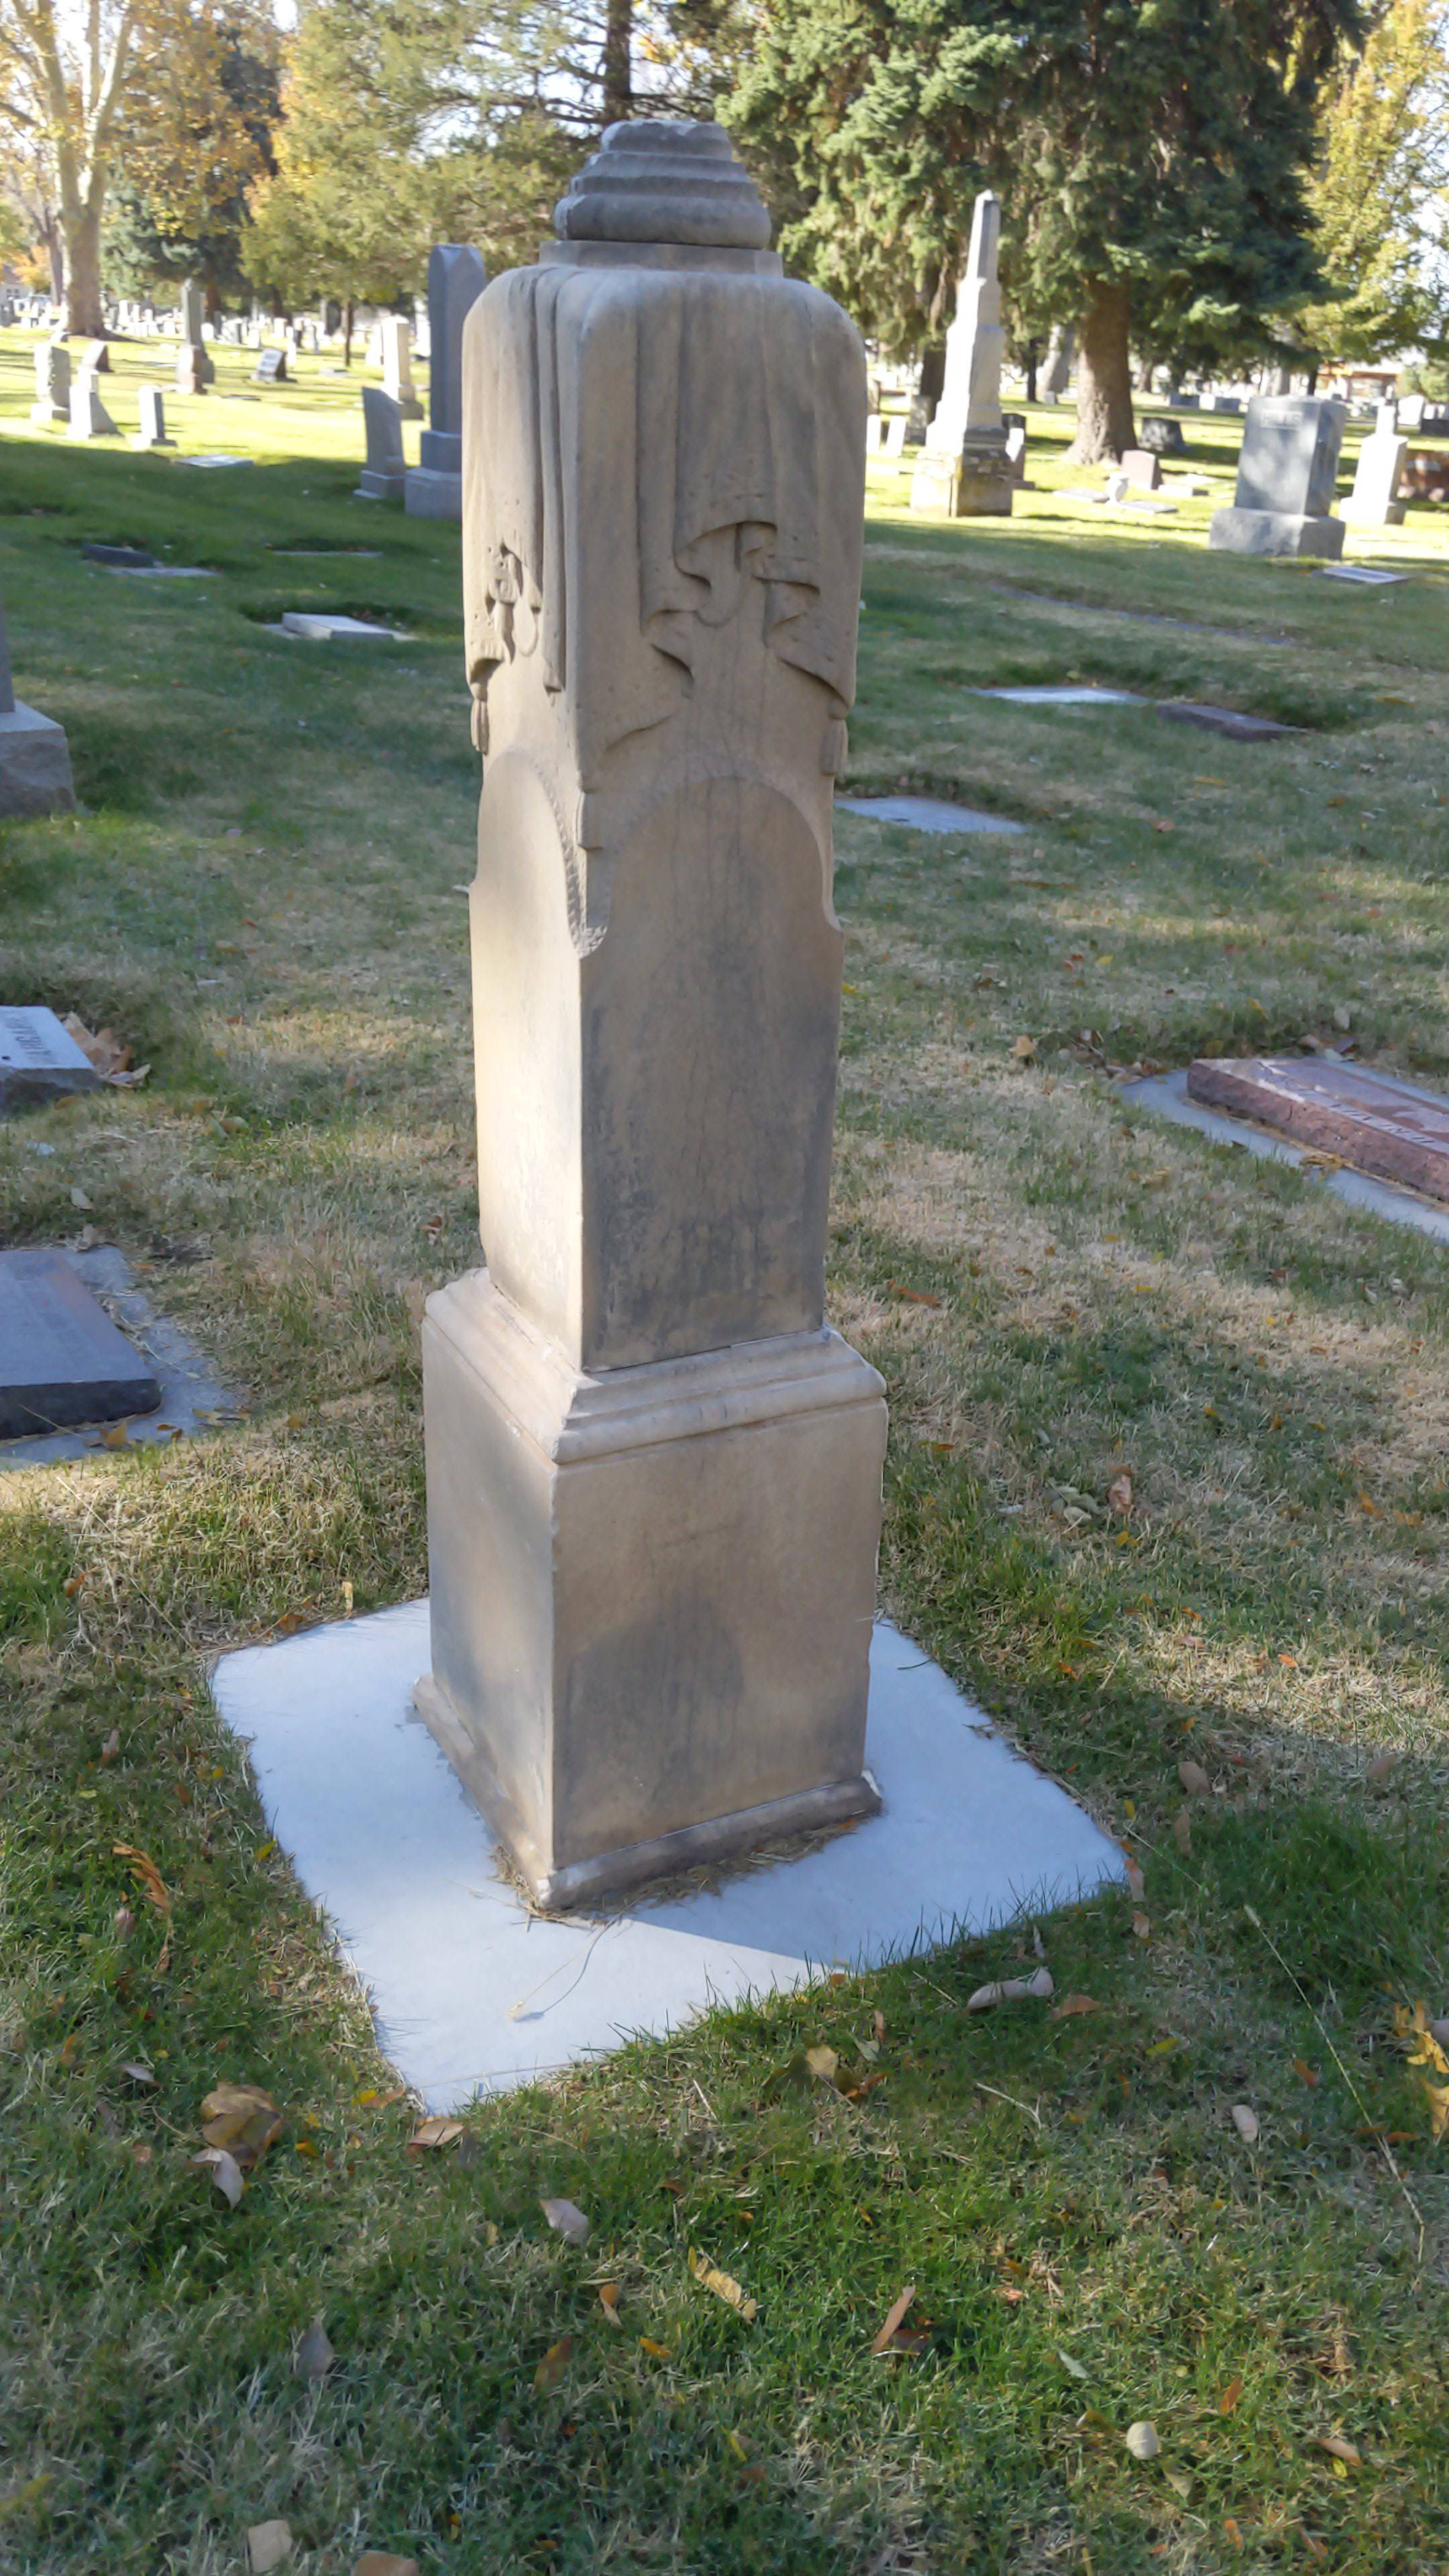obelisk: (418, 88, 892, 1920)
